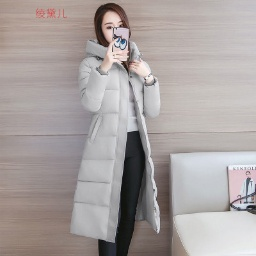face: (92, 2, 131, 46)
